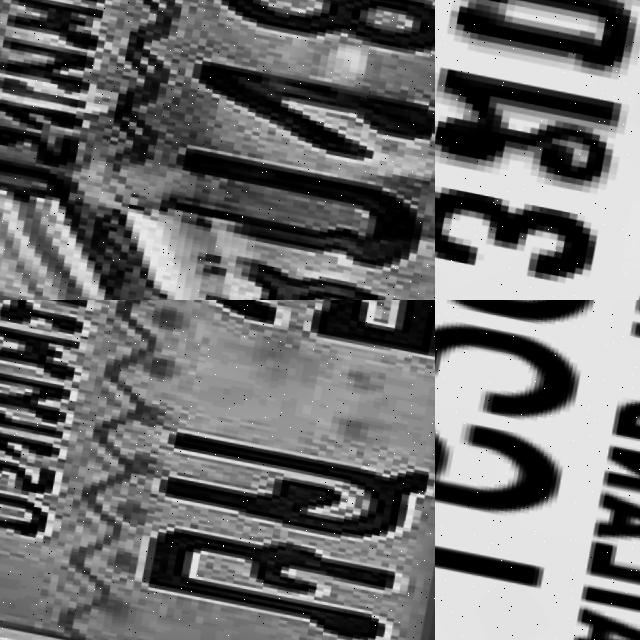license-plate: (0, 300, 435, 640), (0, 0, 435, 300), (435, 300, 640, 640), (435, 0, 640, 300)
